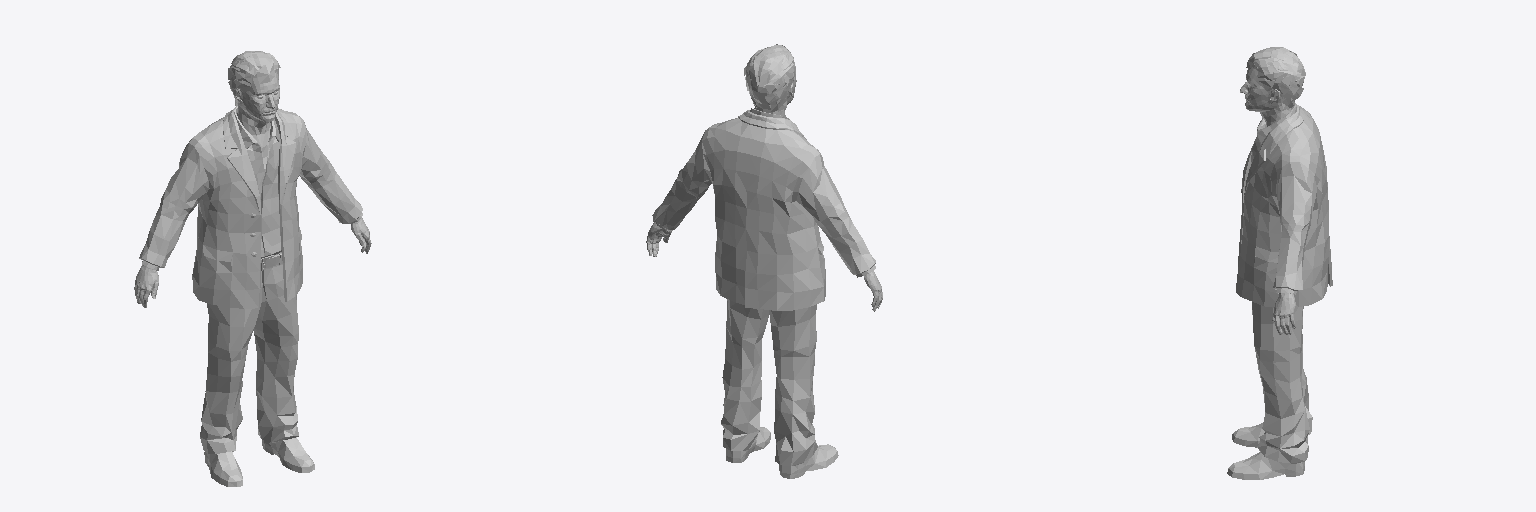
File: Michael.obj
3 renders of one model, left to right at view 1: azimuth 30°, elevation 25°; view 2: azimuth 150°, elevation 25°; view 3: azimuth 270°, elevation 25°, orthographic.
Parts seen in each view (by area): view 1: SH_Kauffman_SH_Ka.002, SH_Kauffman_SH_Ka.001, SH_Kauffman_SH_Ka.005, SH_Kauffman_SH_Ka.003, SH_Kauffman_SH_Ka_SH_, SH_Kauffman_SH_Kauffm; view 2: SH_Kauffman_SH_Ka.002, SH_Kauffman_SH_Ka.001, SH_Kauffman_SH_Ka_SH_, SH_Kauffman_SH_Kauffm, SH_Kauffman_SH_Ka.003; view 3: SH_Kauffman_SH_Ka.002, SH_Kauffman_SH_Ka.001, SH_Kauffman_SH_Ka_SH_, SH_Kauffman_SH_Ka.003, SH_Kauffman_SH_Kauffm.
Part boxes in pixels (left/top/right/bottom): SH_Kauffman_SH_Ka.002: left=139, top=106, right=362, bottom=308; SH_Kauffman_SH_Ka.001: left=200, top=252, right=314, bottom=486; SH_Kauffman_SH_Ka.005: left=234, top=106, right=282, bottom=270; SH_Kauffman_SH_Ka.003: left=233, top=55, right=279, bottom=135; SH_Kauffman_SH_Ka_SH_: left=228, top=51, right=280, bottom=105; SH_Kauffman_SH_Kauffm: left=134, top=218, right=371, bottom=307; SH_Kauffman_SH_Ka.002: left=652, top=110, right=875, bottom=310; SH_Kauffman_SH_Ka.001: left=721, top=299, right=838, bottom=478; SH_Kauffman_SH_Ka_SH_: left=744, top=44, right=795, bottom=111; SH_Kauffman_SH_Kauffm: left=646, top=222, right=882, bottom=311; SH_Kauffman_SH_Ka.003: left=749, top=50, right=796, bottom=116; SH_Kauffman_SH_Ka.002: left=1236, top=105, right=1332, bottom=307; SH_Kauffman_SH_Ka.001: left=1227, top=302, right=1312, bottom=479; SH_Kauffman_SH_Ka_SH_: left=1246, top=47, right=1305, bottom=109; SH_Kauffman_SH_Ka.003: left=1240, top=63, right=1303, bottom=126; SH_Kauffman_SH_Kauffm: left=1272, top=293, right=1295, bottom=334.
Bounding box in the file's own units: 1.11 × 1.86 × 0.4332.